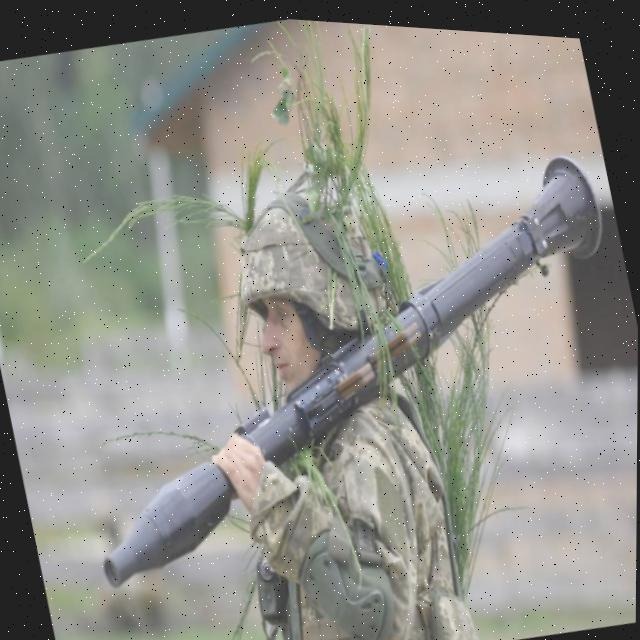rocket: (22, 70, 640, 640)
